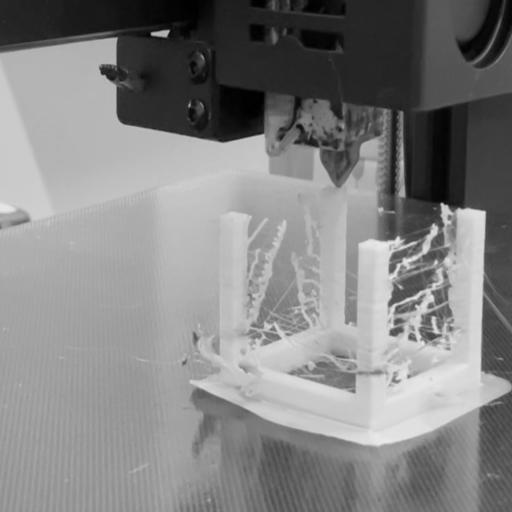spaghetti_and_stringing: (384, 214, 464, 376), (244, 316, 372, 388), (246, 211, 319, 333), (129, 325, 238, 377)
warp: (184, 371, 319, 427), (297, 427, 417, 458)
